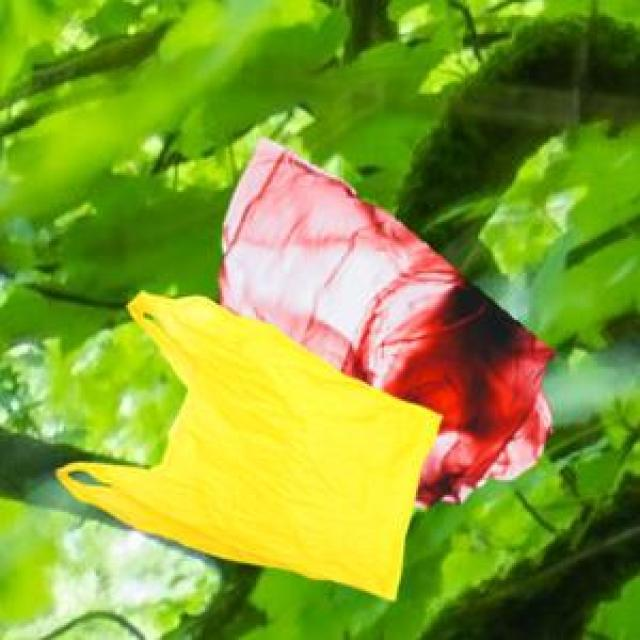Plastic_Bag: (216, 136, 554, 504), (54, 289, 438, 596)
